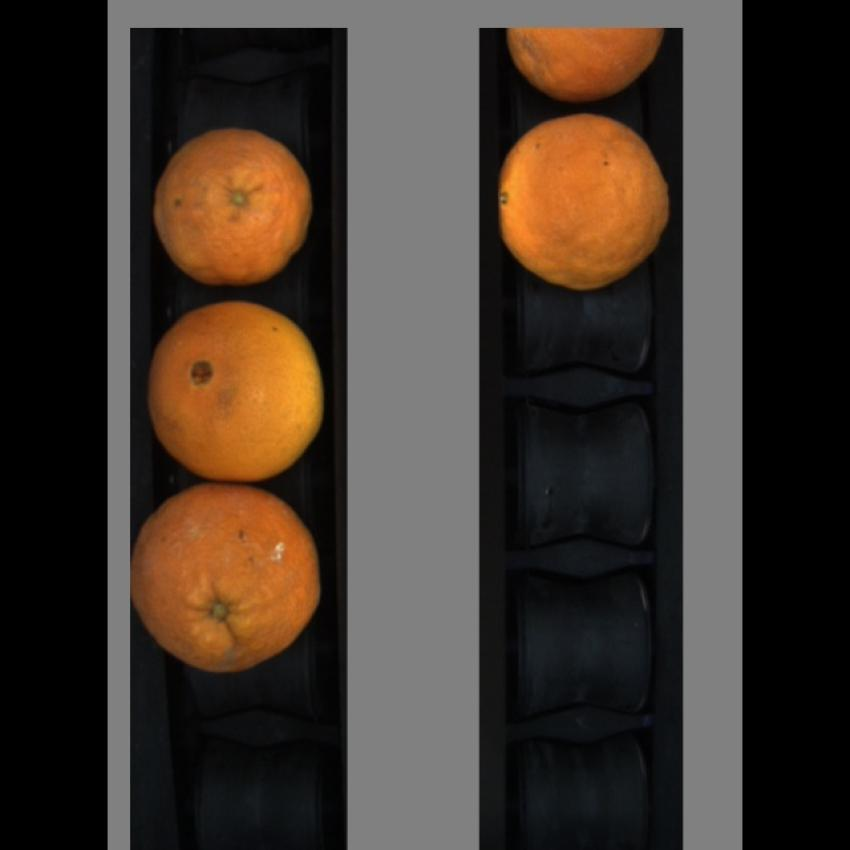Mal estado: (132, 486, 328, 680), (494, 107, 678, 300), (142, 303, 330, 481), (148, 120, 322, 291), (501, 27, 676, 105)
